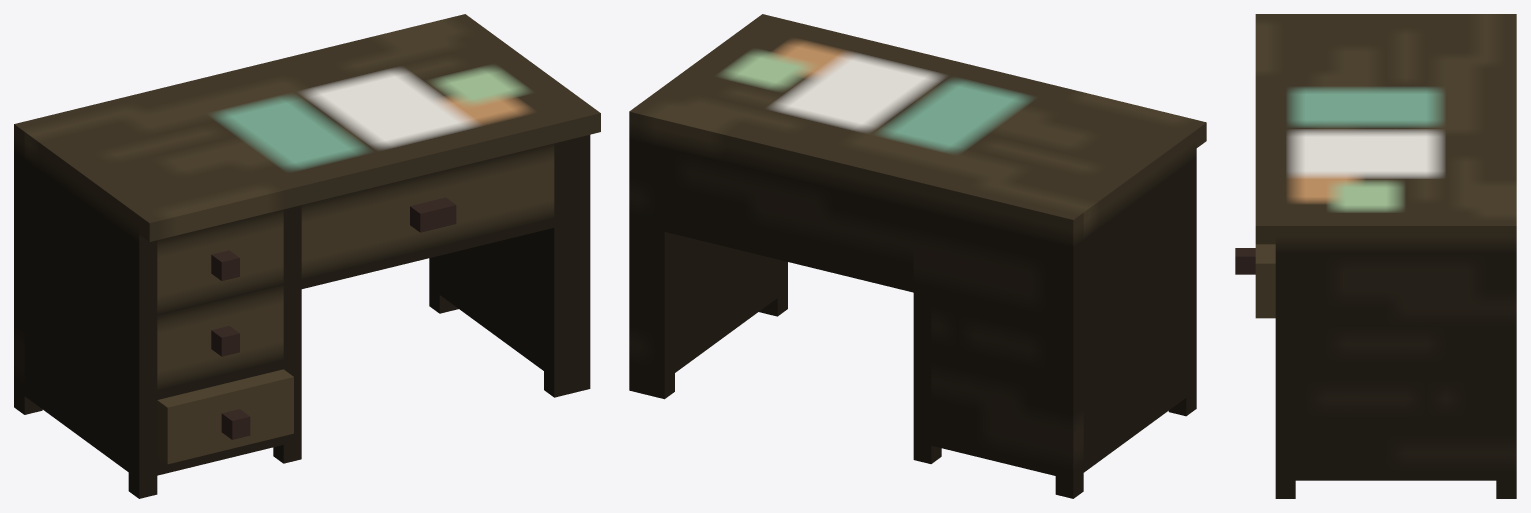
Rendered from Table_Desk_00.fbx.
The picture shows the model from 3 angles, left to right: view 1: azimuth 30°, elevation 25°; view 2: azimuth 150°, elevation 25°; view 3: azimuth 270°, elevation 25°; orthographic projection. The views are drawn at different scales.
Parts seen in each view (by area): view 1: Table_Desk_00; view 2: Table_Desk_00; view 3: Table_Desk_00.
Part boxes in pixels (x1=…): Table_Desk_00: x1=14, y1=14, x2=600, y2=498; Table_Desk_00: x1=629, y1=14, x2=1206, y2=498; Table_Desk_00: x1=1235, y1=14, x2=1516, y2=498.
Bounding box in the file's own units: 125 × 75 × 70.
